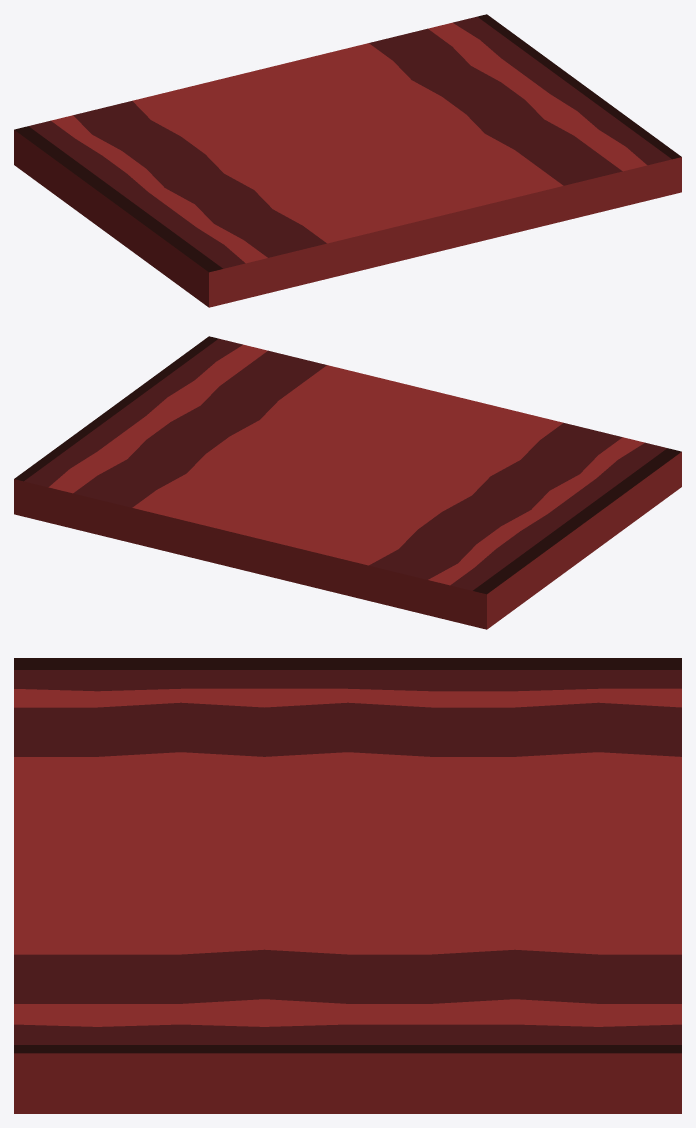
File: elevatorFloor.fbx
3 views of the same model, one above another, from view 1: azimuth 30°, elevation 25°; view 2: azimuth 150°, elevation 25°; view 3: azimuth 270°, elevation 25° (orthographic). The views are drawn at different scales.
Parts seen in each view (by area): view 1: Cube; view 2: Cube; view 3: Cube.
Part boxes in pixels (bbox=[...]): Cube: bbox=[14, 14, 681, 307]; Cube: bbox=[14, 336, 681, 629]; Cube: bbox=[14, 658, 681, 1113].
Size of the model in its own units: 350 by 25 by 250.
